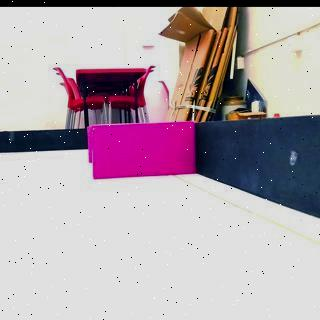xparking: (85, 123, 196, 180)
